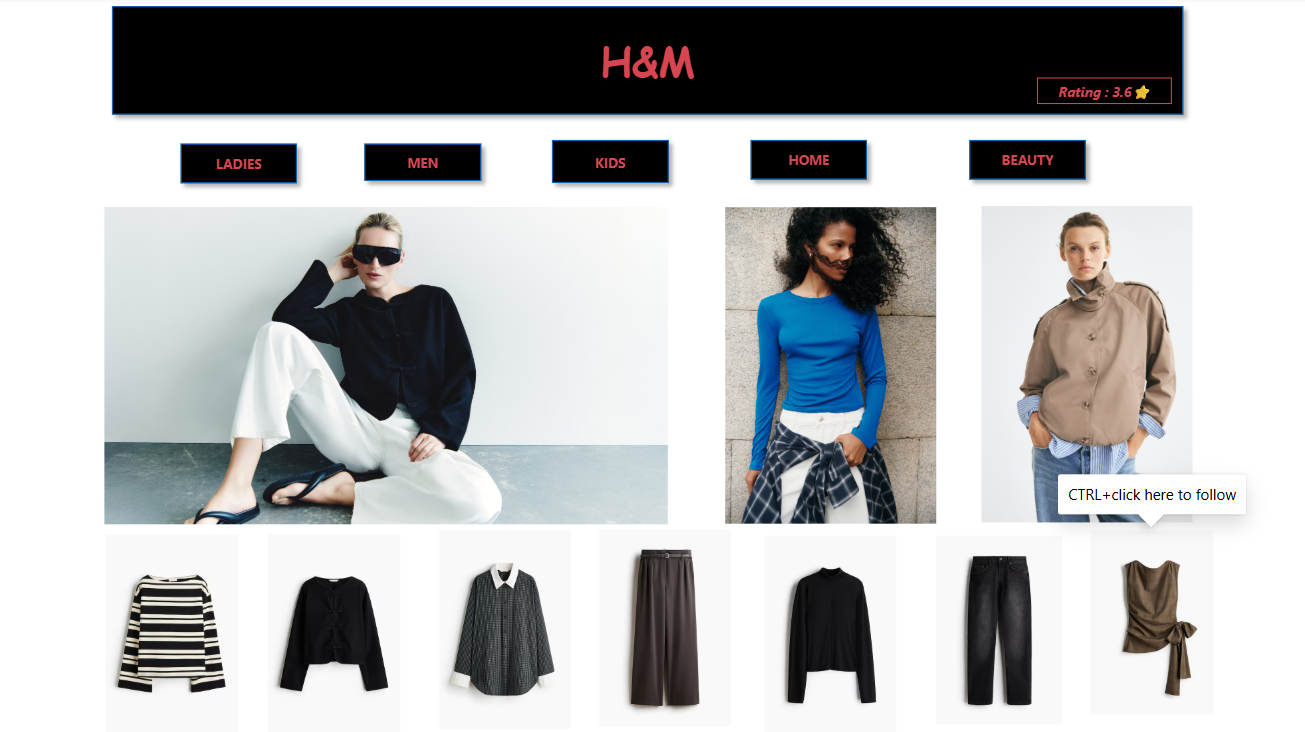

This screenshot's page, from the dashboard's own definition file:
{"tool":"powerbi","page":{"name":"Page 2","canvas":[1280,720],"ordinal":1},"visuals":[{"type":"shape","box":[102,0,1066,124],"z":0},{"type":"image","box":[101.7,205,554,310],"z":1000},{"type":"image","box":[710,195,206,332],"z":2000},{"type":"image","box":[961.7,193.3,206,332],"z":3000},{"type":"shape","box":[168.9,134.4,131.7,56.7],"z":4000},{"type":"shape","box":[348.9,134.4,132.2,54.4],"z":5000},{"type":"shape","box":[532.2,131.1,132.2,60],"z":6000},{"type":"shape","box":[726.7,131.1,131.7,56.7],"z":7000},{"type":"shape","box":[940,131.1,131.7,56.7],"z":8000},{"type":"image","box":[102.2,525.6,132.2,194.4],"z":9000},{"type":"image","box":[263.3,525.6,130,194.4],"z":10000},{"type":"image","box":[424.4,522.2,142.2,193.3],"z":11000},{"type":"image","box":[576.7,521.1,150,193],"z":12000},{"type":"image","box":[738.9,526.7,150,193],"z":13000},{"type":"image","box":[915.6,526.7,124.4,184.4],"z":14000},{"type":"image","box":[1064.4,522.2,127.8,180],"z":15000},{"type":"shape","box":[1006,70,150,44],"z":16000}]}

Visuals, with their boxes in screenshot pixels (x1, y1, x2, y2), scaled from the page's 1280x720 canvas onto the 1305x732 screenshot:
shape: bbox=(104, 0, 1191, 126)
image: bbox=(104, 208, 669, 524)
image: bbox=(724, 198, 934, 536)
image: bbox=(980, 197, 1191, 534)
shape: bbox=(172, 137, 306, 194)
shape: bbox=(356, 137, 490, 192)
shape: bbox=(543, 133, 677, 194)
shape: bbox=(741, 133, 875, 191)
shape: bbox=(958, 133, 1093, 191)
image: bbox=(104, 534, 239, 731)
image: bbox=(268, 534, 401, 731)
image: bbox=(433, 531, 578, 727)
image: bbox=(588, 530, 741, 726)
image: bbox=(753, 535, 906, 731)
image: bbox=(933, 535, 1060, 723)
image: bbox=(1085, 531, 1215, 714)
shape: bbox=(1026, 71, 1179, 116)
